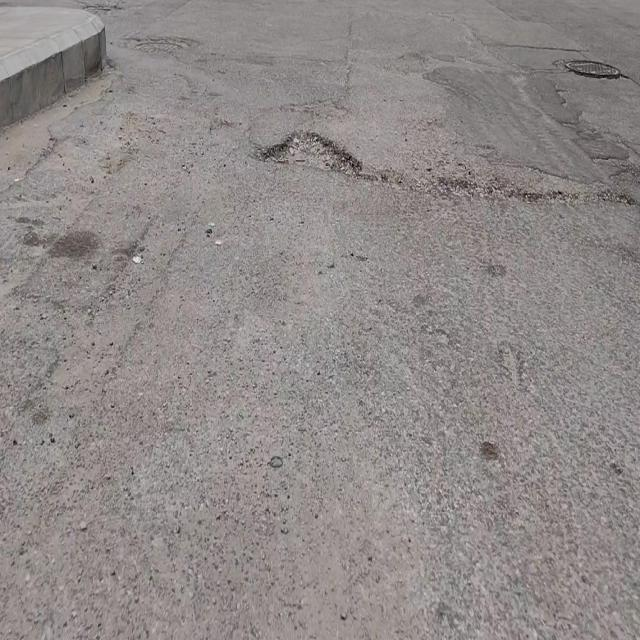Potholes: (259, 128, 362, 176)
